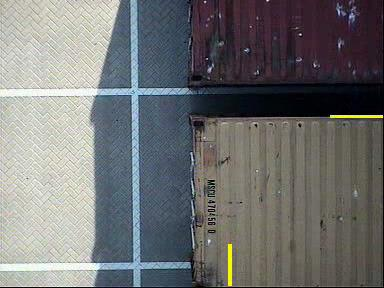groundmarker_2: (80, 141, 156, 191)
